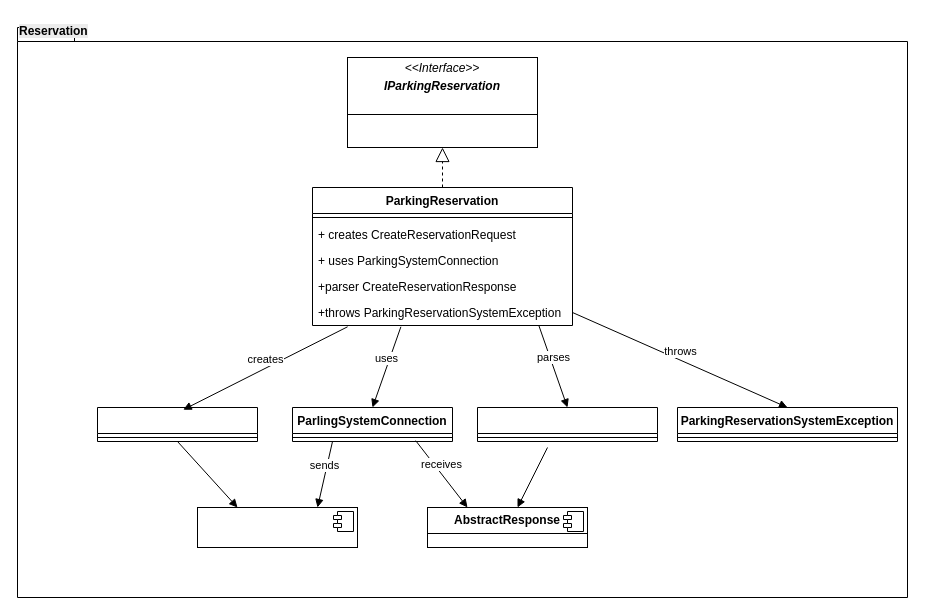
The diagram is 925 pixels wide and 615 high, and some of its shapes have lost their labels. The centre of each missing label's shape, as x and y in pixels:
AbstractResquest: the point at 277,527
CreateReservationRequest: the point at 177,424
CreateReservationResponse: the point at 567,424
